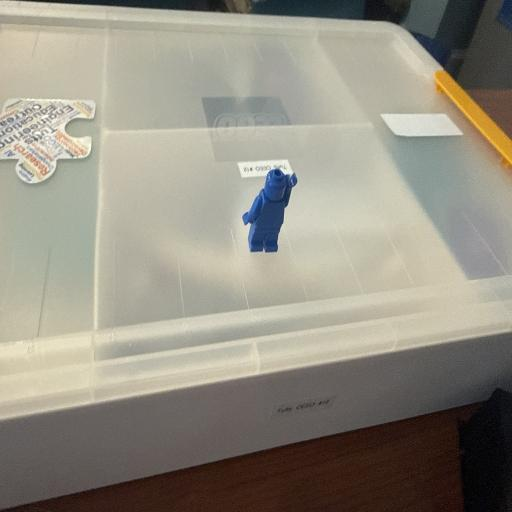Minifig: (243, 169, 297, 252)
